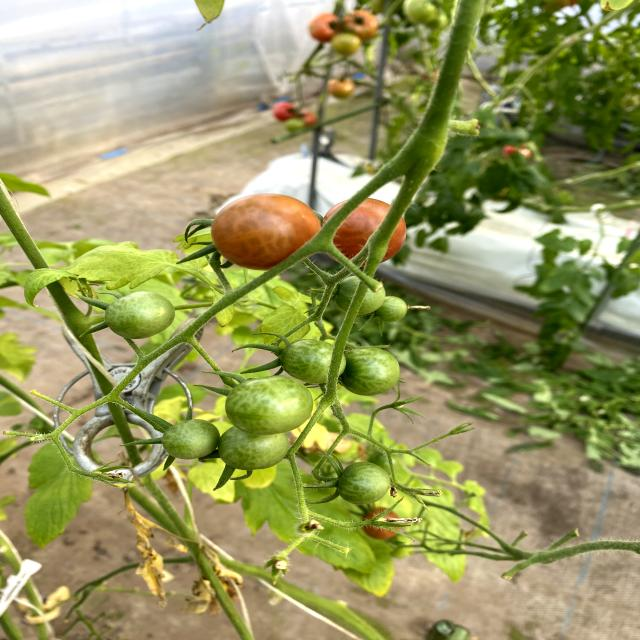ripe0: (226, 376, 314, 433), (105, 291, 174, 338)
ripe2: (210, 193, 322, 270)
